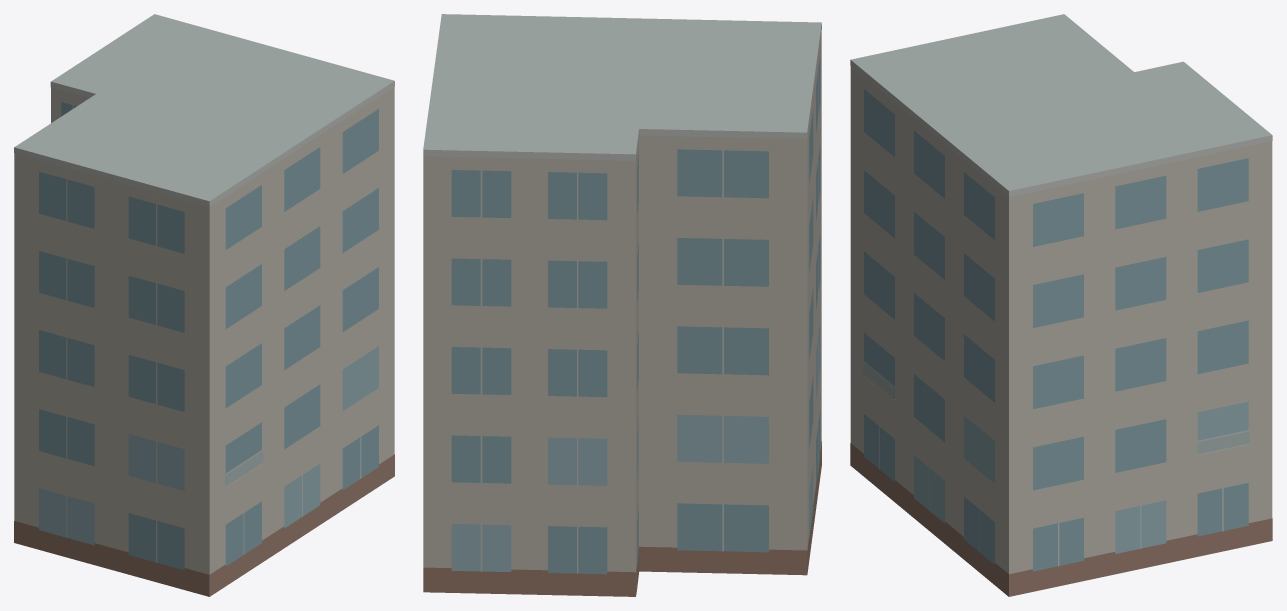
The model's file is survey-upis-32955740.glb.
3 views of the same model, side by side, from view 1: azimuth 30°, elevation 25°; view 2: azimuth 150°, elevation 25°; view 3: azimuth 270°, elevation 25° (orthographic). The views are drawn at different scales.
Parts seen in each view (by area): view 1: survey-upis-32955740.tmp; view 2: survey-upis-32955740.tmp; view 3: survey-upis-32955740.tmp.
Part boxes in pixels (x1,y1,x2,y2): survey-upis-32955740.tmp: (14, 14, 394, 596); survey-upis-32955740.tmp: (423, 14, 821, 596); survey-upis-32955740.tmp: (850, 14, 1272, 596).
Size of the model in its own units: 15.54 by 16.6 by 15.65.
